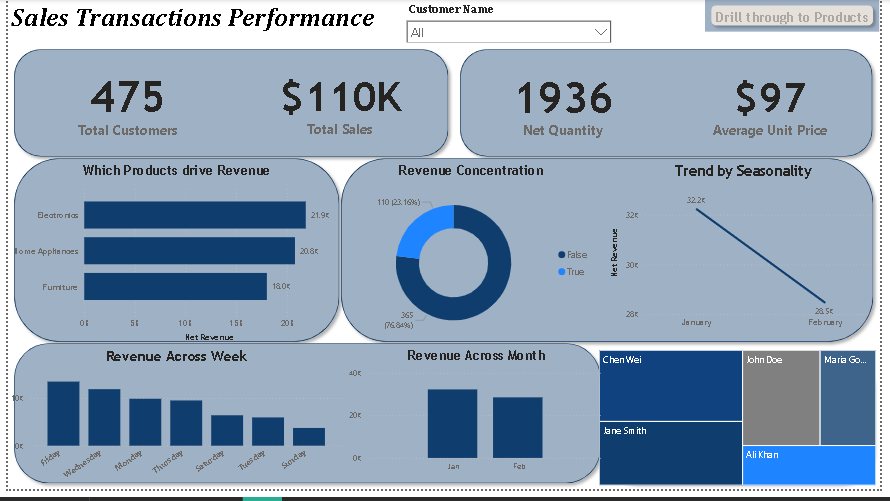

Layout of this report page (visuals, bound fields, positions):
{"tool":"powerbi","page":{"name":"Sales Dashboard","canvas":[1280,720],"ordinal":0},"visuals":[{"type":"group","id":"g1","title":"Group 1","box":[0,64,1280,656],"z":0},{"type":"textbox","box":[0,0,560,64],"z":2000},{"type":"shape","box":[0,64,656,176],"z":2500,"group":"g1"},{"type":"shape","box":[656,64,624,176],"z":3000,"group":"g1"},{"type":"card","fields":{"Values":["Sheet1.Customer Name"]},"box":[16,80,320,144],"z":3000},{"type":"card","fields":{"Values":["cleaned_sales_transactions.Net_Quantity"]},"box":[656,64,320,176],"z":4000},{"type":"card","fields":{"Values":["cleaned_sales_transactions.Sale_Amount"]},"box":[320,80,336,144],"z":5000},{"type":"shape","box":[0,224,496,288],"z":5000,"group":"g1"},{"type":"card","fields":{"Values":["cleaned_sales_transactions.Unit_Price"]},"box":[960,64,320,176],"z":6000},{"type":"shape","box":[480,224,800,288],"z":7000,"group":"g1"},{"type":"barChart","title":"Which Products drive Revenue","fields":{"Category":["cleaned_sales_transactions.Product_Category"],"Y":["cleaned_sales_transactions.Net_Revenue"]},"box":[0,240,496,272],"z":7000},{"type":"columnChart","title":"Revenue Across Week","fields":{"Category":["cleaned_sales_transactions.Weekday"],"Y":["cleaned_sales_transactions.Net_Revenue"]},"box":[0,512,496,208],"z":8000},{"type":"donutChart","title":"Revenue Concentration","fields":{"Category":["cleaned_sales_transactions.Is_Return"],"Y":["cleaned_sales_transactions.Transaction_ID"]},"box":[496,240,368,272],"z":9000},{"type":"lineChart","title":"Trend by Seasonality","fields":{"Y":["cleaned_sales_transactions.Net_Revenue"],"Category":["cleaned_sales_transactions.Transaction_Date.Variation.Date Hierarchy.Month"]},"box":[880,240,400,256],"z":10000},{"type":"shape","box":[0,496,880,224],"z":11000,"group":"g1"},{"type":"treemap","title":"Customer by Region","fields":{"Group":["cleaned_sales_transactions.Customer_Name"],"Values":["cleaned_sales_transactions.Net_Revenue"]},"box":[864,512,416,208],"z":11000},{"type":"clusteredColumnChart","title":"Revenue Across Month","fields":{"Category":["cleaned_sales_transactions.MonthName"],"Y":["cleaned_sales_transactions.Net_Revenue"]},"box":[496,512,384,192],"z":12000},{"type":"slicer","fields":{"Values":["cleaned_sales_transactions.Customer_Name"]},"box":[576,0,320,64],"z":13000},{"type":"actionButton","box":[1024,0,256,48],"z":14000},{"type":"shape","box":[864,512,416,208],"z":14000,"group":"g1"}]}

Visuals, with their boxes in screenshot pixels (x1, y1, x2, y2), scaled from the page's 1280x720 canvas onto the 890x501 screenshot:
"Group 1" group: (left=0, top=45, right=889, bottom=500)
textbox: (left=0, top=0, right=389, bottom=45)
shape: (left=0, top=45, right=456, bottom=167)
shape: (left=456, top=45, right=889, bottom=167)
card - Sheet1.Customer Name: (left=11, top=56, right=234, bottom=156)
card - cleaned_sales_transactions.Net_Quantity: (left=456, top=45, right=679, bottom=167)
card - cleaned_sales_transactions.Sale_Amount: (left=222, top=56, right=456, bottom=156)
shape: (left=0, top=156, right=345, bottom=356)
card - cleaned_sales_transactions.Unit_Price: (left=668, top=45, right=889, bottom=167)
shape: (left=334, top=156, right=889, bottom=356)
"Which Products drive Revenue" barChart: (left=0, top=167, right=345, bottom=356)
"Revenue Across Week" columnChart: (left=0, top=356, right=345, bottom=500)
"Revenue Concentration" donutChart: (left=345, top=167, right=601, bottom=356)
"Trend by Seasonality" lineChart: (left=612, top=167, right=889, bottom=345)
shape: (left=0, top=345, right=612, bottom=500)
"Customer by Region" treemap: (left=601, top=356, right=889, bottom=500)
"Revenue Across Month" clusteredColumnChart: (left=345, top=356, right=612, bottom=490)
slicer - cleaned_sales_transactions.Customer_Name: (left=400, top=0, right=623, bottom=45)
actionButton: (left=712, top=0, right=889, bottom=33)
shape: (left=601, top=356, right=889, bottom=500)
